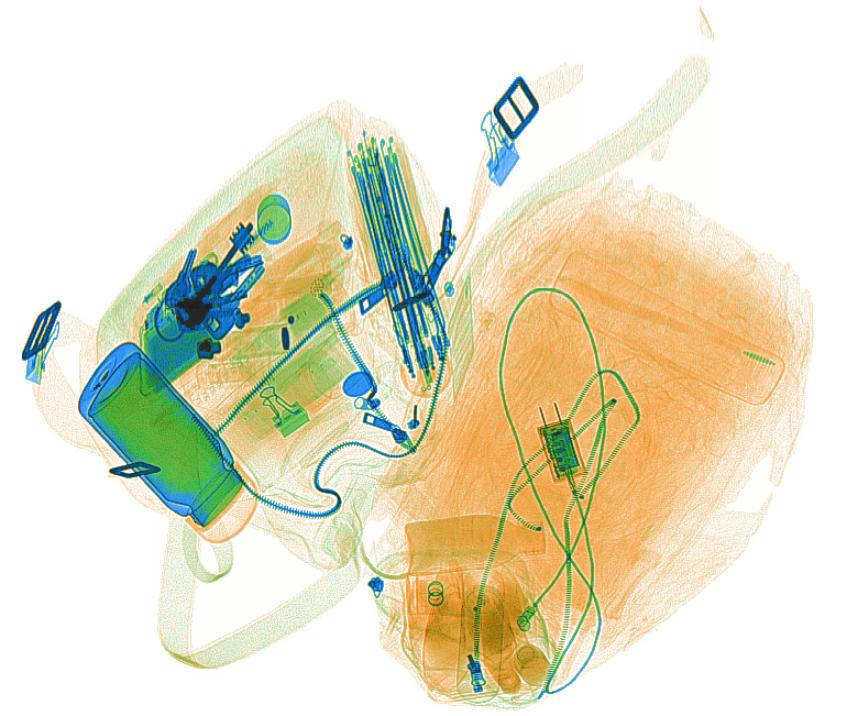plasticBottleWithaNozzle: (401, 545, 466, 658), (485, 559, 545, 647)
pressure: (456, 567, 504, 702)
